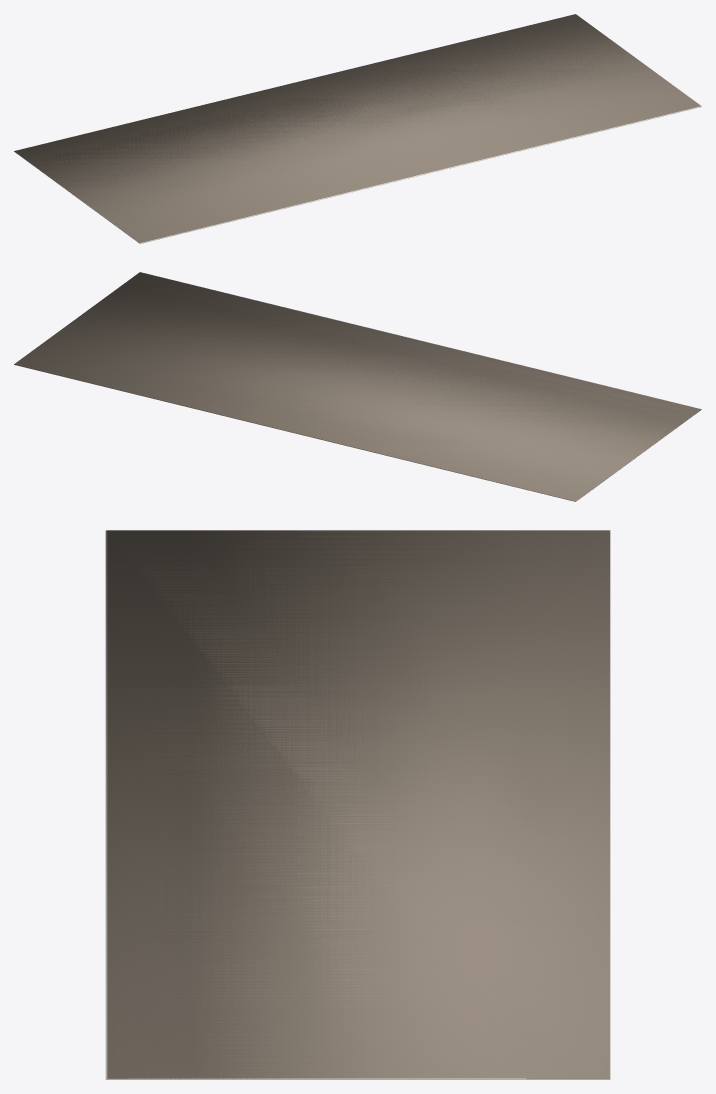
Rendered from VCell_Assembly_40Layer.glb.
3 views of the same model, one above another, from view 1: azimuth 30°, elevation 25°; view 2: azimuth 150°, elevation 25°; view 3: azimuth 270°, elevation 25° (orthographic). The views are drawn at different scales.
Parts seen in each view (by area): view 1: VCell_Assembly_40Layer; view 2: VCell_Assembly_40Layer; view 3: VCell_Assembly_40Layer.
Part boxes in pixels (bbox=[...]): VCell_Assembly_40Layer: bbox=[14, 14, 701, 243]; VCell_Assembly_40Layer: bbox=[14, 272, 701, 501]; VCell_Assembly_40Layer: bbox=[105, 530, 610, 1079].
Bounding box in the file's own units: 0.296 × 0.000307 × 0.1151.
